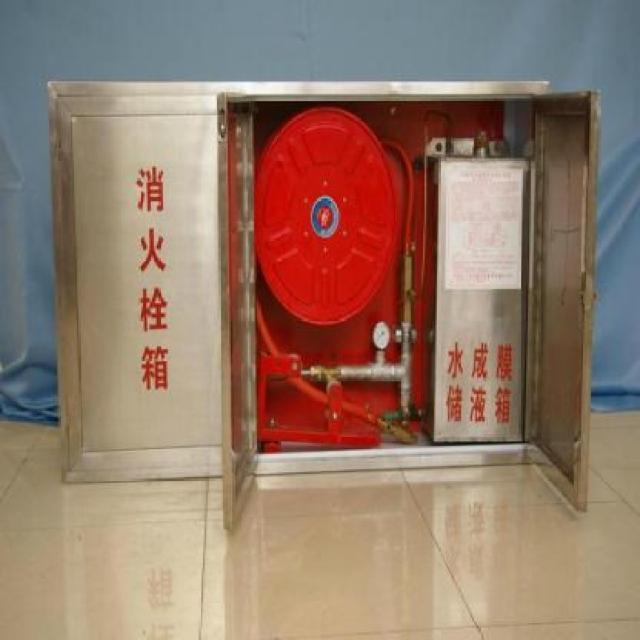firehydrant: (44, 75, 604, 537)
